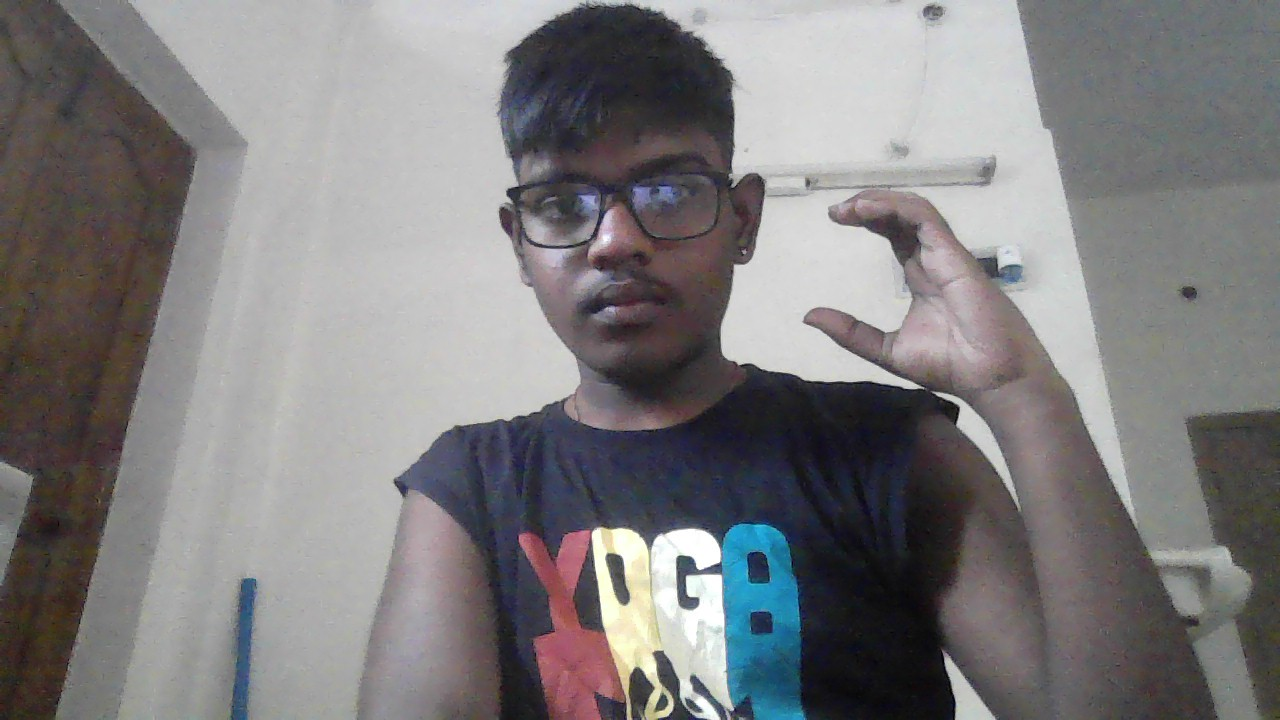C: (802, 191, 1032, 382)
